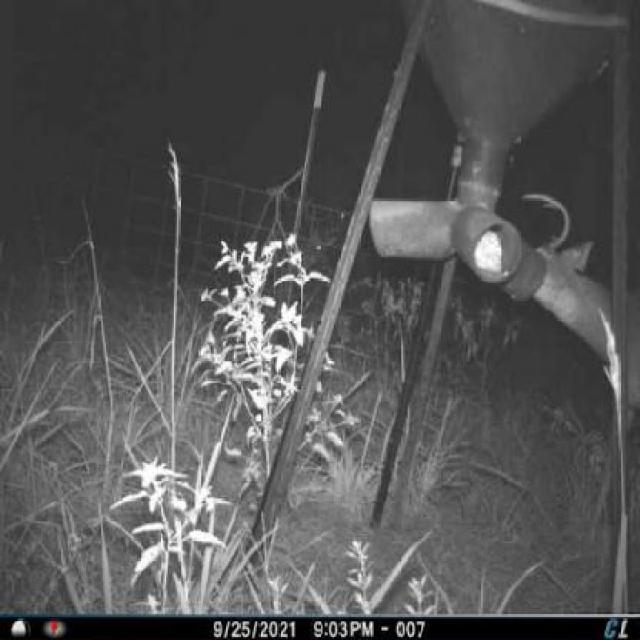Deer: (500, 177, 638, 535)
